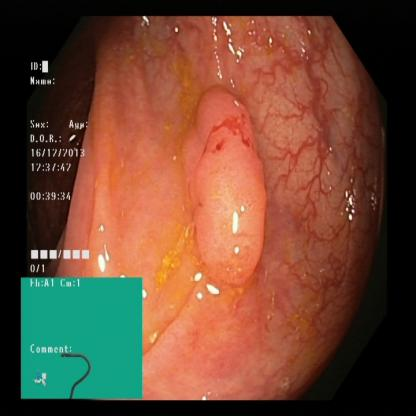Labels: (25, 57, 98, 277), (22, 278, 145, 399)
Polyps: (181, 82, 268, 287)
